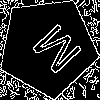M: (23, 21, 84, 83)
